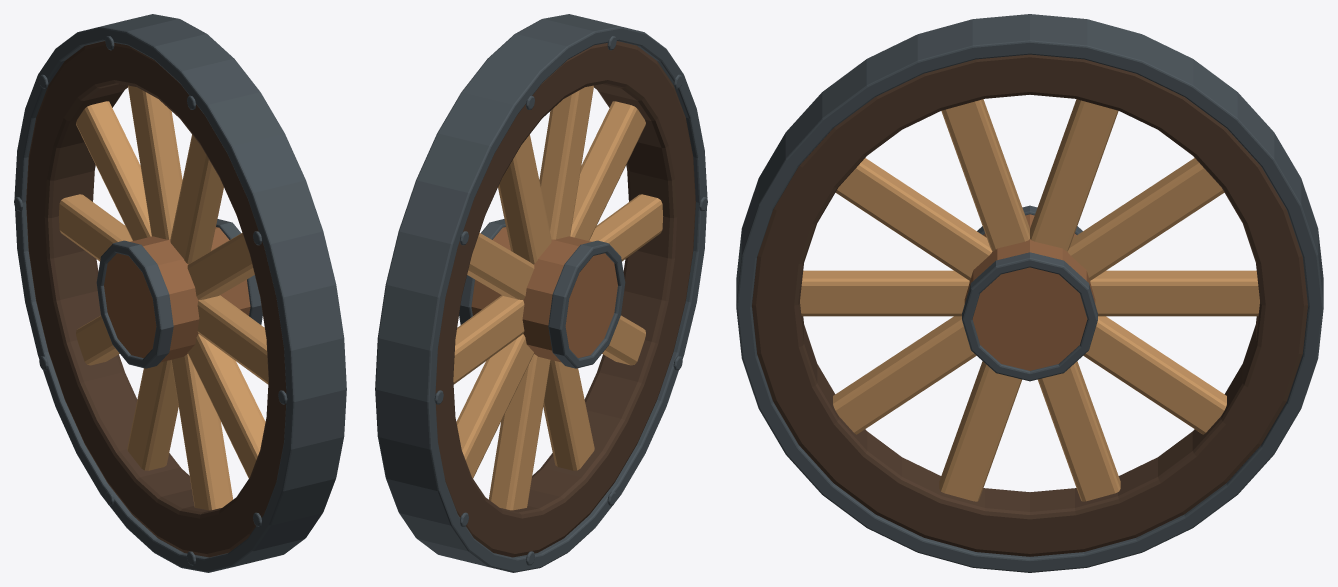
The model's file is cart_wheel.glb.
3 views of the same model, side by side, from view 1: azimuth 30°, elevation 25°; view 2: azimuth 150°, elevation 25°; view 3: azimuth 270°, elevation 25° (orthographic). The views are drawn at different scales.
Visible parts, largest first — view 1: cart_wheel__structure, cart_wheel__finish; view 2: cart_wheel__structure, cart_wheel__finish; view 3: cart_wheel__structure, cart_wheel__finish.
Part boxes in pixels (x1=…): cart_wheel__structure: x1=26, y1=41, x2=286, y2=557; cart_wheel__finish: x1=14, y1=14, x2=346, y2=572; cart_wheel__structure: x1=435, y1=41, x2=695, y2=557; cart_wheel__finish: x1=375, y1=14, x2=707, y2=572; cart_wheel__structure: x1=752, y1=54, x2=1307, y2=556; cart_wheel__finish: x1=736, y1=14, x2=1323, y2=572.
Bounding box in the file's own units: 0.276 × 1.28 × 1.28.
